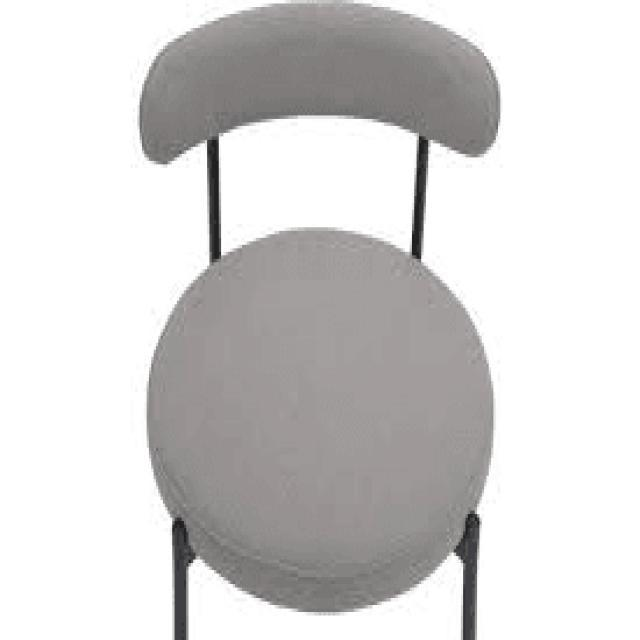chair: (132, 0, 506, 640), (140, 0, 500, 611)
